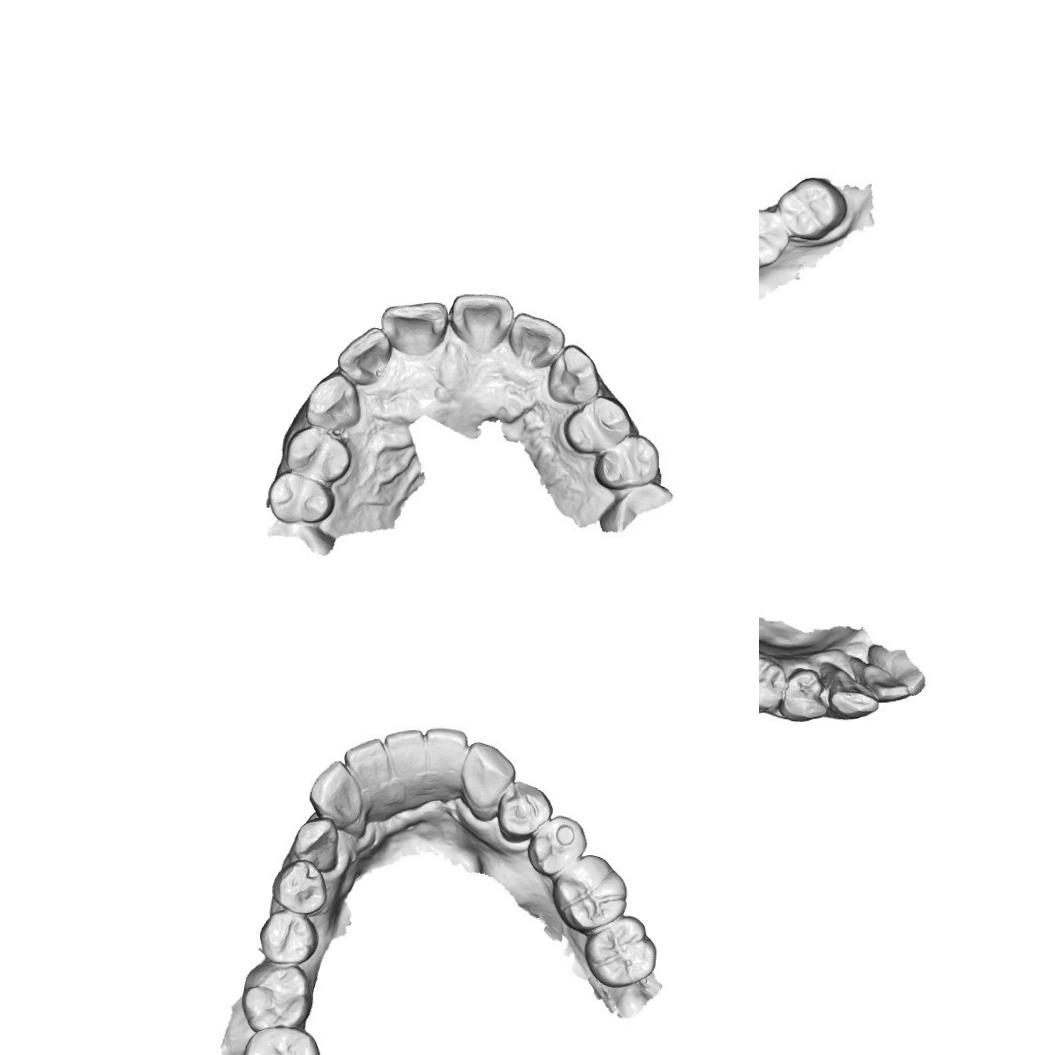canine: (465, 740, 516, 817), (306, 375, 368, 436), (545, 344, 602, 402), (826, 669, 883, 726), (294, 815, 342, 871)
incisor: (381, 301, 453, 360), (448, 289, 514, 352), (308, 756, 360, 830), (508, 310, 567, 366), (421, 723, 471, 788), (336, 328, 394, 384), (343, 737, 393, 799), (385, 728, 426, 800), (858, 660, 912, 706)
molar: (550, 852, 629, 935), (586, 910, 661, 988), (237, 958, 312, 1034), (774, 174, 848, 244), (241, 1025, 324, 1055), (759, 207, 789, 271)
premolar: (588, 430, 666, 494), (280, 426, 352, 487), (266, 468, 336, 528), (566, 394, 638, 452), (494, 779, 557, 841), (527, 814, 587, 876), (258, 908, 318, 970), (270, 858, 330, 918), (780, 667, 828, 725), (759, 653, 789, 719)
